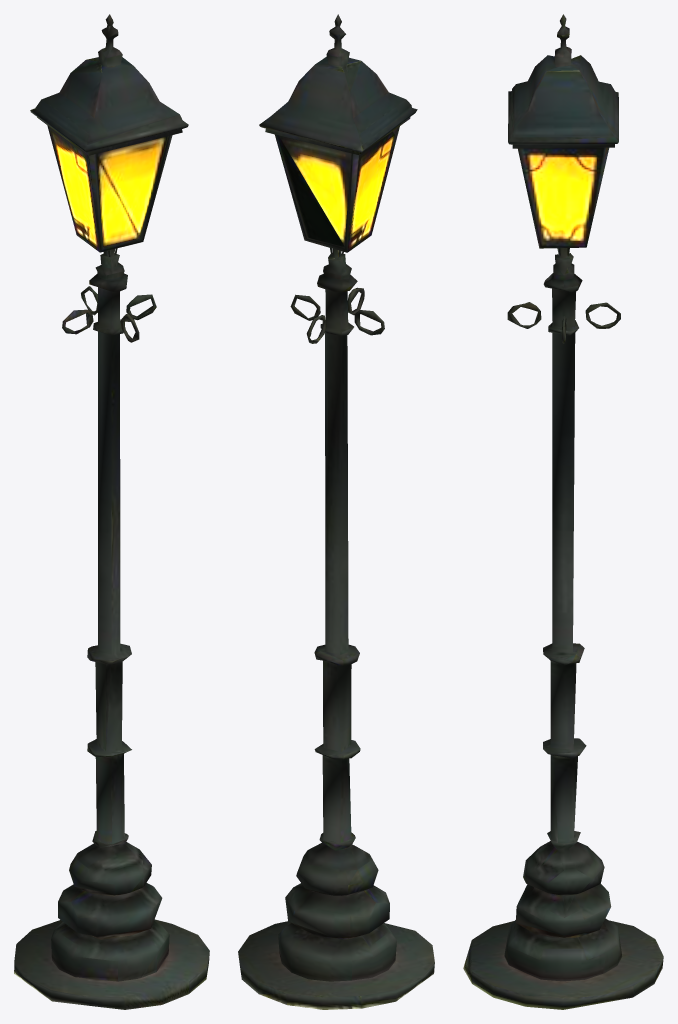
File: lamp-post.lod1.glb
3 renders of one model, left to right at view 1: azimuth 30°, elevation 25°; view 2: azimuth 150°, elevation 25°; view 3: azimuth 270°, elevation 25°, orthographic.
Size of the model in its own units: 0.6409 by 3.4 by 0.6478.
Materials: 1 (1 with a texture image).
